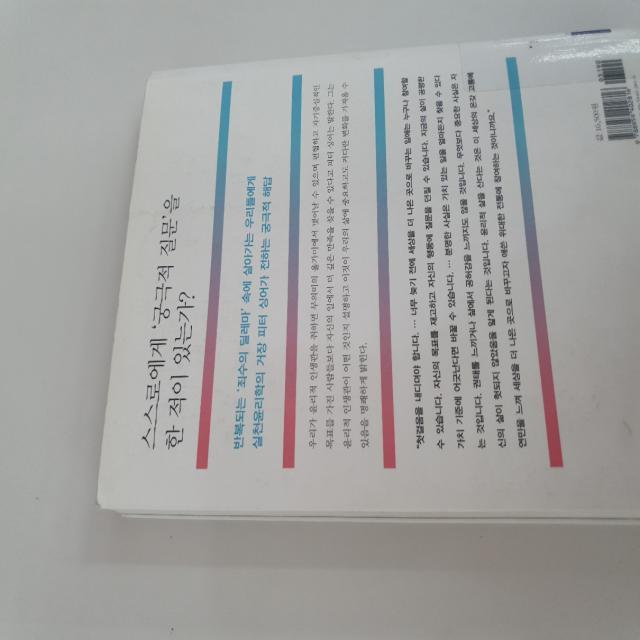Wornout: (90, 407, 116, 512), (108, 263, 131, 354)
